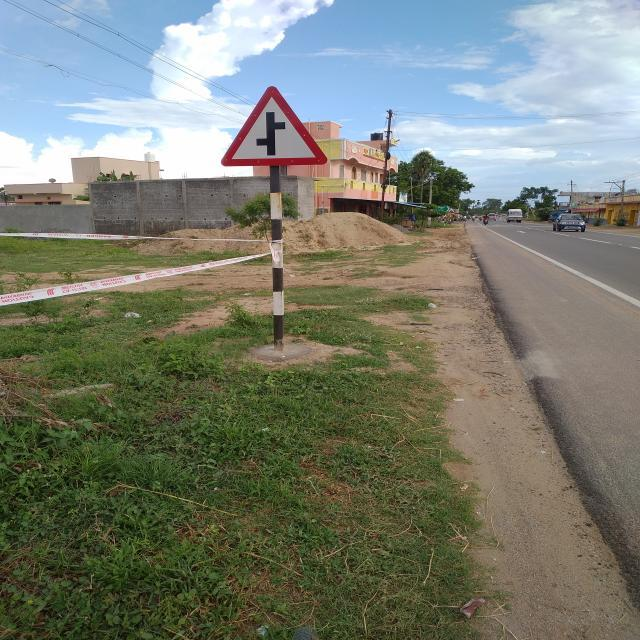staggered intersection: (210, 78, 338, 172)
